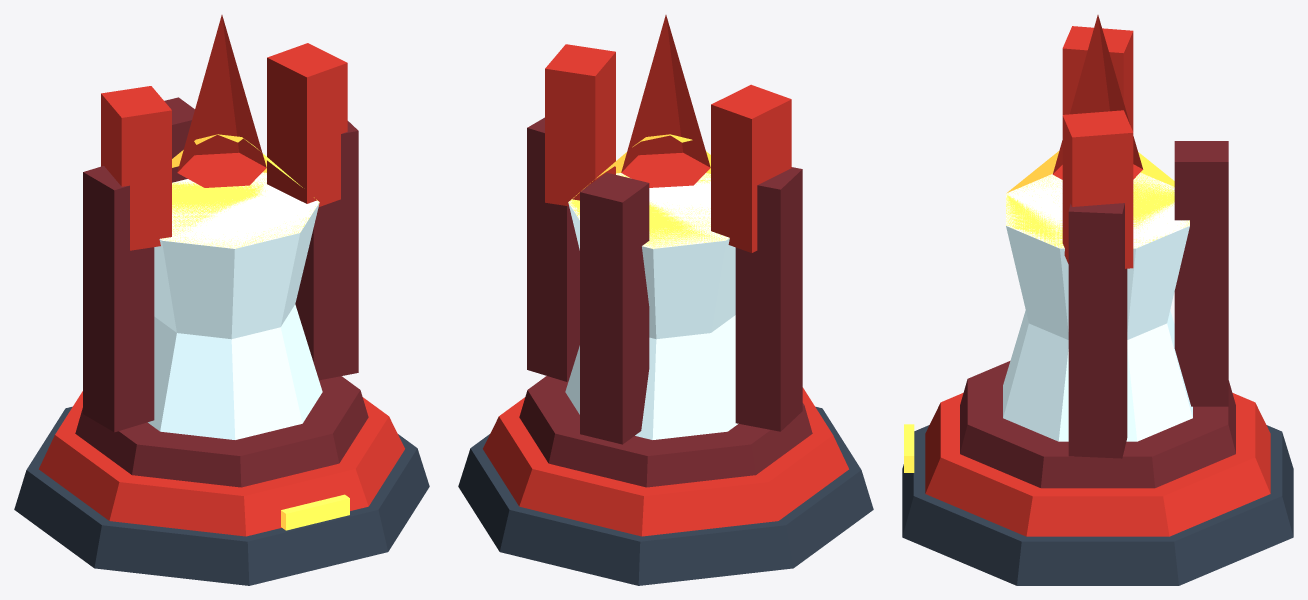
Rendered from king_red.glb.
3 renders of one model, left to right at view 1: azimuth 30°, elevation 25°; view 2: azimuth 150°, elevation 25°; view 3: azimuth 270°, elevation 25°, orthographic.
Parts seen in each view (by area): view 1: king_red_Base_Lower, king_red_Core_Upper, king_red_Base_Band, king_red_Core_Lower, king_red_Cage_0, king_red_Base_Deck, king_red_Crown_Right, king_red_Cage_1, king_red_Crown_Left, king_red_Crown_Center, king_red_Core_Cap, king_red_Status_Light (+1 smaller); view 2: king_red_Base_Lower, king_red_Base_Band, king_red_Cage_2, king_red_Cage_0, king_red_Base_Deck, king_red_Core_Upper, king_red_Cage_1, king_red_Crown_Right, king_red_Crown_Left, king_red_Core_Lower, king_red_Crown_Center, king_red_Core_Cap; view 3: king_red_Base_Lower, king_red_Base_Band, king_red_Base_Deck, king_red_Cage_1, king_red_Cage_2, king_red_Core_Upper, king_red_Core_Lower, king_red_Crown_Right, king_red_Core_Cap, king_red_Crown_Left, king_red_Crown_Center, king_red_Status_Light.
Part boxes in pixels (<box>): king_red_Base_Lower: <box>14,406,429,585</box>; king_red_Core_Upper: <box>154,172,319,339</box>; king_red_Base_Band: <box>39,391,404,536</box>; king_red_Core_Lower: <box>148,304,322,439</box>; king_red_Cage_0: <box>83,166,154,432</box>; king_red_Base_Deck: <box>75,376,368,487</box>; king_red_Crown_Right: <box>267,43,347,206</box>; king_red_Cage_1: <box>295,121,358,380</box>; king_red_Crown_Left: <box>101,86,171,250</box>; king_red_Crown_Center: <box>177,15,266,187</box>; king_red_Core_Cap: <box>161,134,318,248</box>; king_red_Status_Light: <box>281,494,349,530</box>; king_red_Base_Lower: <box>458,406,873,585</box>; king_red_Base_Band: <box>483,387,848,536</box>; king_red_Cage_2: <box>580,172,649,444</box>; king_red_Cage_0: <box>735,167,802,431</box>; king_red_Base_Deck: <box>519,376,812,487</box>; king_red_Core_Upper: <box>568,173,735,339</box>; king_red_Cage_1: <box>527,117,579,381</box>; king_red_Crown_Right: <box>545,44,615,206</box>; king_red_Crown_Left: <box>711,84,791,252</box>; king_red_Core_Lower: <box>565,315,738,439</box>; king_red_Crown_Center: <box>621,15,710,187</box>; king_red_Core_Cap: <box>569,134,728,248</box>; king_red_Base_Lower: <box>902,425,1293,585</box>; king_red_Base_Band: <box>925,393,1270,536</box>; king_red_Base_Deck: <box>960,361,1235,488</box>; king_red_Cage_1: <box>1068,203,1127,458</box>; king_red_Cage_2: <box>1174,141,1228,406</box>; king_red_Core_Upper: <box>1006,172,1189,339</box>; king_red_Core_Lower: <box>1003,310,1192,441</box>; king_red_Crown_Right: <box>1062,110,1133,268</box>; king_red_Core_Cap: <box>1006,150,1189,248</box>; king_red_Crown_Left: <box>1062,26,1133,131</box>; king_red_Crown_Center: <box>1052,15,1143,179</box>; king_red_Status_Light: <box>904,424,914,472</box>.
Bounding box in the file's own units: 0.9424 × 1.3 × 0.9424.
